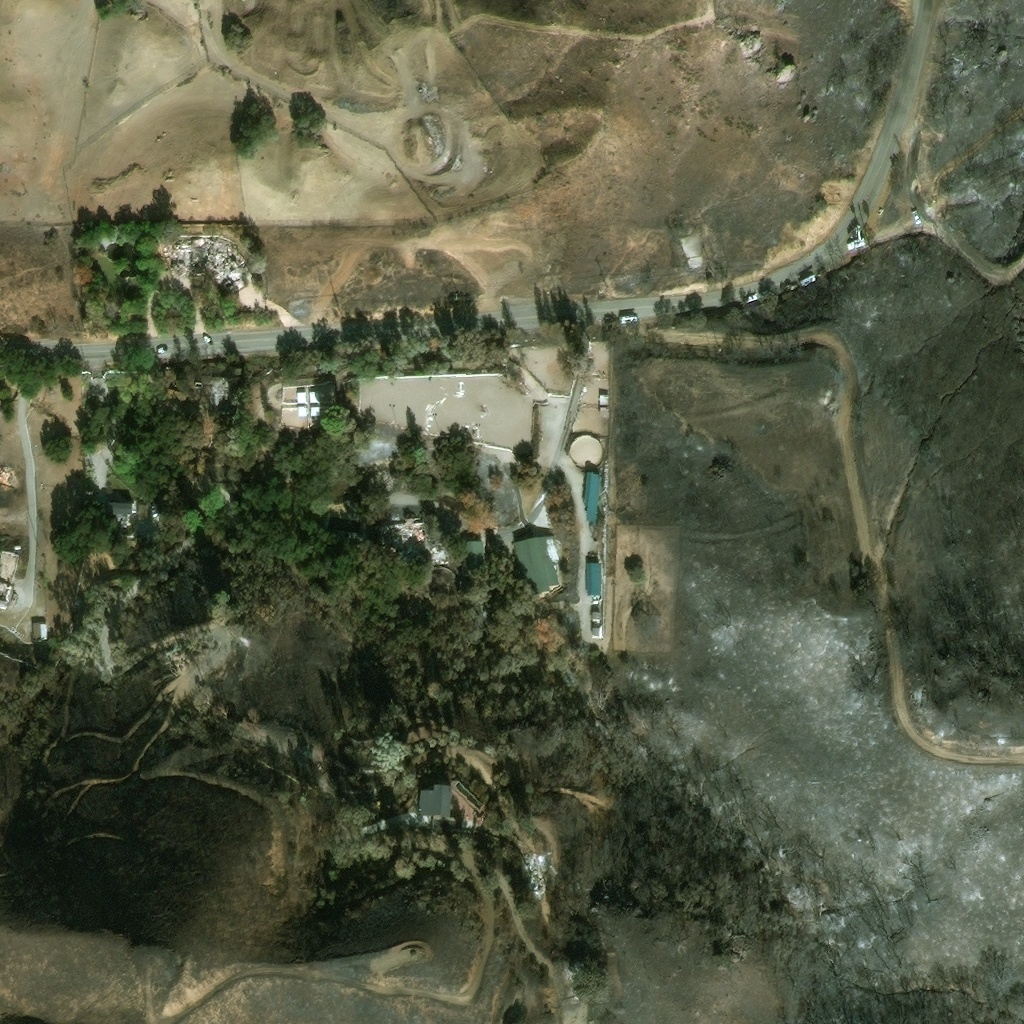0 no-damage: (452, 779, 483, 808), (419, 784, 448, 814), (582, 469, 599, 519), (104, 501, 138, 520), (462, 539, 484, 567), (586, 561, 600, 594), (211, 383, 231, 405), (0, 578, 13, 601), (32, 621, 46, 638), (309, 390, 317, 402), (599, 406, 608, 416), (296, 392, 305, 402), (310, 405, 319, 415), (599, 394, 608, 403), (297, 406, 305, 416), (0, 600, 6, 608), (11, 593, 16, 602), (592, 611, 599, 617), (592, 627, 598, 633)
1 minor-damage: (511, 533, 560, 595)
3 destroyed: (172, 236, 241, 291), (374, 515, 425, 548), (523, 849, 542, 892), (564, 957, 584, 981), (371, 474, 393, 495), (429, 542, 447, 564), (0, 465, 13, 489), (388, 489, 406, 498)
4 un-classified: (579, 616, 585, 630)
